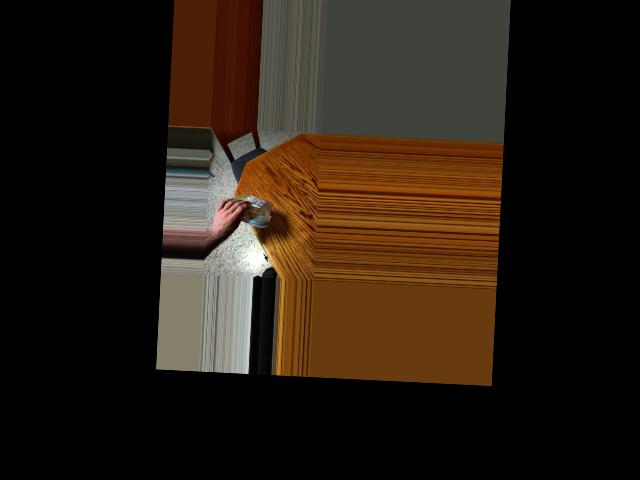cheese: (220, 194, 259, 228)
